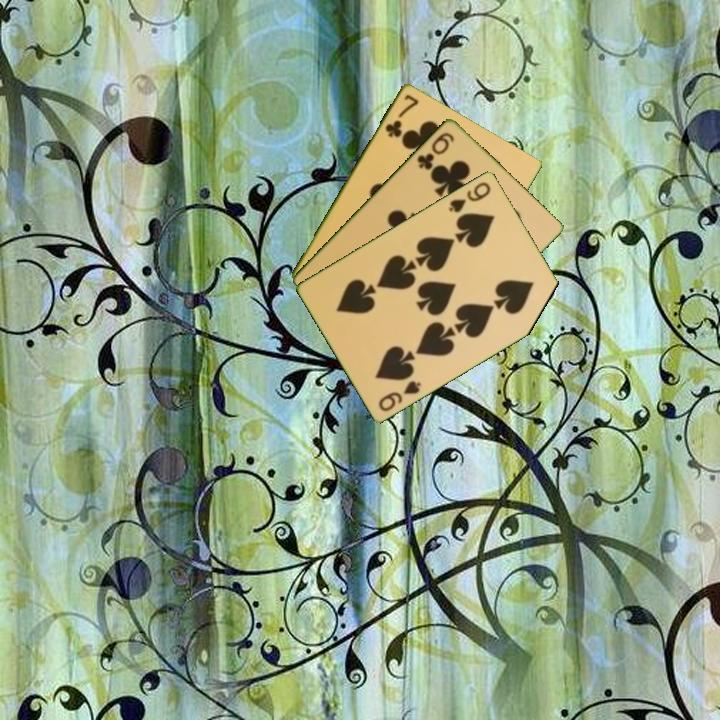6c: (413, 128, 457, 173)
7c: (381, 90, 421, 140)
9s: (375, 376, 424, 414), (445, 178, 494, 215)
